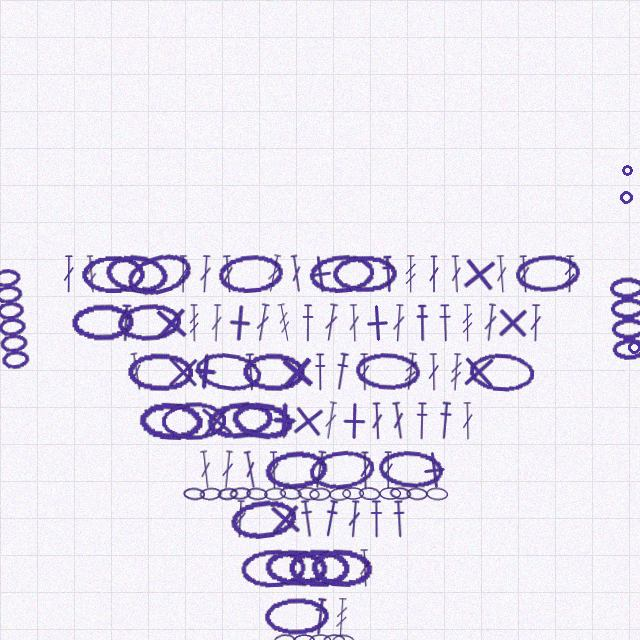chain: (123, 247, 196, 301), (228, 496, 298, 542), (193, 349, 263, 395), (307, 447, 376, 492), (205, 398, 274, 443), (229, 398, 296, 444), (103, 251, 171, 296), (377, 448, 445, 491), (217, 252, 285, 295), (263, 448, 330, 491), (308, 252, 375, 295), (468, 351, 535, 393), (354, 351, 422, 392), (514, 253, 582, 294), (116, 302, 182, 343), (240, 548, 307, 588), (138, 400, 203, 441), (310, 547, 374, 588), (264, 548, 329, 588), (264, 597, 330, 636), (127, 352, 193, 391), (161, 401, 226, 440), (332, 255, 398, 293), (242, 352, 306, 391), (71, 303, 135, 342), (81, 255, 146, 293), (288, 548, 351, 587), (229, 486, 252, 501), (279, 486, 302, 501), (297, 486, 320, 501), (358, 486, 381, 501), (389, 486, 412, 501), (199, 487, 222, 501), (183, 487, 205, 501), (217, 487, 239, 501), (246, 487, 268, 501), (264, 487, 286, 501), (309, 487, 331, 501), (329, 487, 351, 501), (406, 487, 428, 501), (426, 487, 448, 501), (342, 487, 364, 500), (379, 487, 401, 500), (273, 633, 296, 640), (332, 634, 355, 640), (293, 634, 315, 640), (309, 634, 331, 640), (323, 634, 345, 640)
double: (264, 254, 284, 293), (241, 450, 260, 489), (253, 303, 272, 342), (322, 303, 340, 342), (197, 450, 214, 489), (322, 401, 339, 440), (390, 401, 407, 440), (128, 352, 145, 391), (482, 303, 499, 342), (288, 254, 305, 293), (346, 500, 362, 538), (220, 255, 236, 293), (220, 450, 235, 489), (391, 304, 406, 342), (198, 255, 213, 293), (494, 255, 509, 293), (517, 255, 532, 293), (358, 549, 372, 587), (233, 500, 247, 538), (267, 451, 281, 489), (370, 402, 384, 440), (347, 304, 361, 342), (449, 255, 463, 293), (461, 402, 474, 440), (358, 353, 371, 391), (427, 353, 440, 391), (210, 304, 223, 342), (529, 304, 542, 342), (62, 255, 75, 293), (359, 451, 371, 489), (382, 451, 394, 489), (177, 255, 189, 293), (428, 255, 440, 293)
enseble_chain: (0, 267, 33, 372), (606, 276, 640, 364)
half_double: (321, 499, 341, 538), (298, 499, 317, 538), (310, 450, 329, 489), (332, 352, 351, 391), (311, 597, 329, 636), (436, 401, 454, 440), (242, 353, 259, 391), (391, 500, 407, 538), (118, 304, 134, 342), (437, 304, 453, 342), (380, 255, 396, 293), (369, 500, 384, 538), (415, 402, 429, 440), (313, 353, 327, 391), (301, 304, 315, 342), (415, 304, 429, 342)
noise: (618, 189, 634, 205), (626, 339, 640, 355), (621, 164, 634, 177)
single: (413, 449, 455, 491), (287, 400, 329, 442), (299, 253, 341, 295), (458, 253, 500, 295), (196, 400, 237, 441), (185, 351, 226, 392), (265, 499, 305, 539), (277, 352, 317, 392), (151, 303, 191, 343), (220, 303, 260, 343), (357, 303, 397, 343), (265, 401, 304, 440), (459, 352, 498, 391), (493, 303, 532, 342), (335, 402, 373, 440), (164, 353, 202, 391)
treble: (275, 303, 294, 342), (402, 352, 419, 391), (334, 598, 349, 636), (84, 255, 99, 293), (449, 353, 463, 391), (461, 304, 474, 342), (404, 255, 417, 293), (563, 255, 576, 293), (188, 304, 200, 342)
